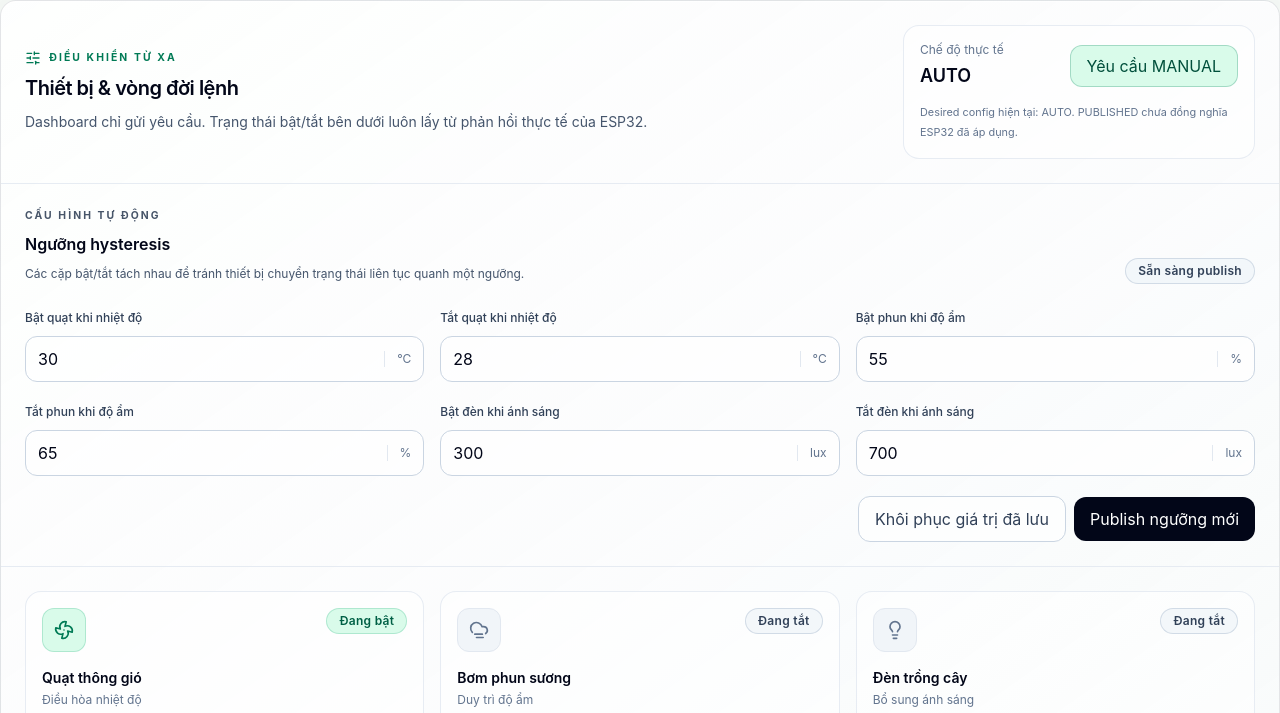
ControlPanel › validate và publish đầy đủ cấu hình ngưỡng
The image size is (1280, 713).
Step 1. Replace the text in the number field labelled "Bật quạt khi nhiệt độ" with "31" → (205,359), box [26, 337, 384, 381]
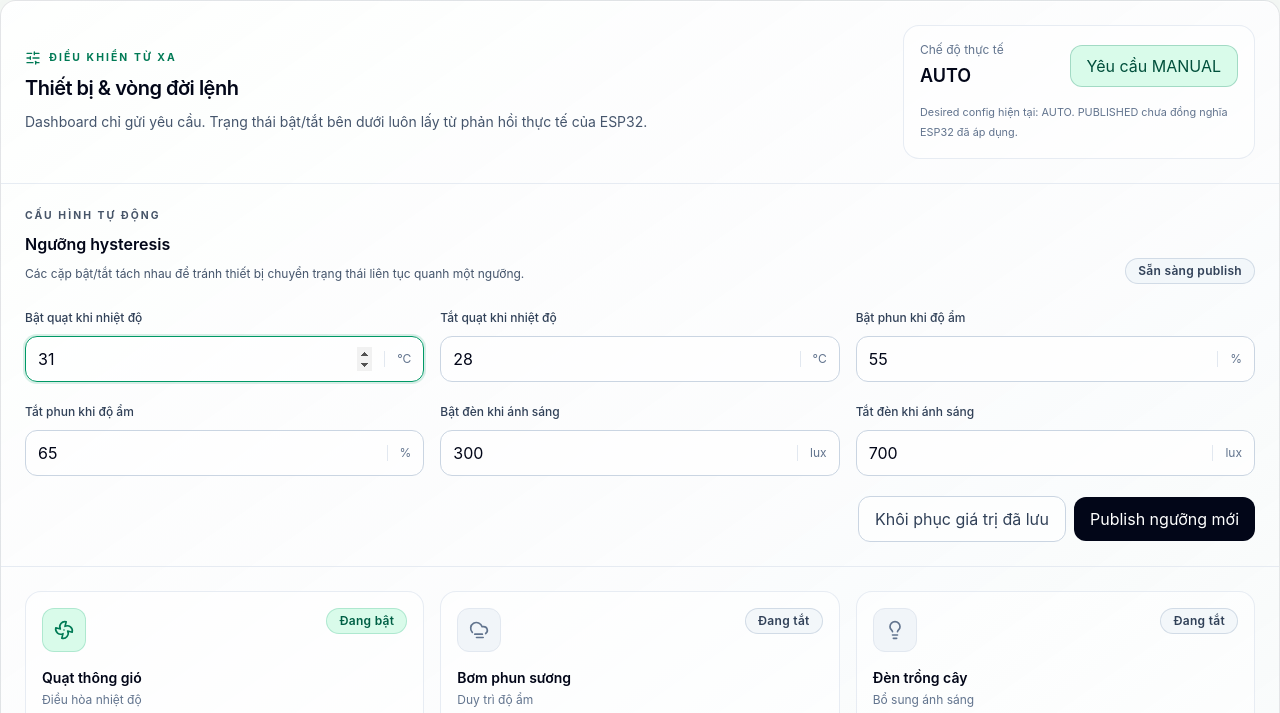
Step 2. Click the button "Publish ngưỡng mới" → (1164,519), box [1074, 497, 1255, 541]
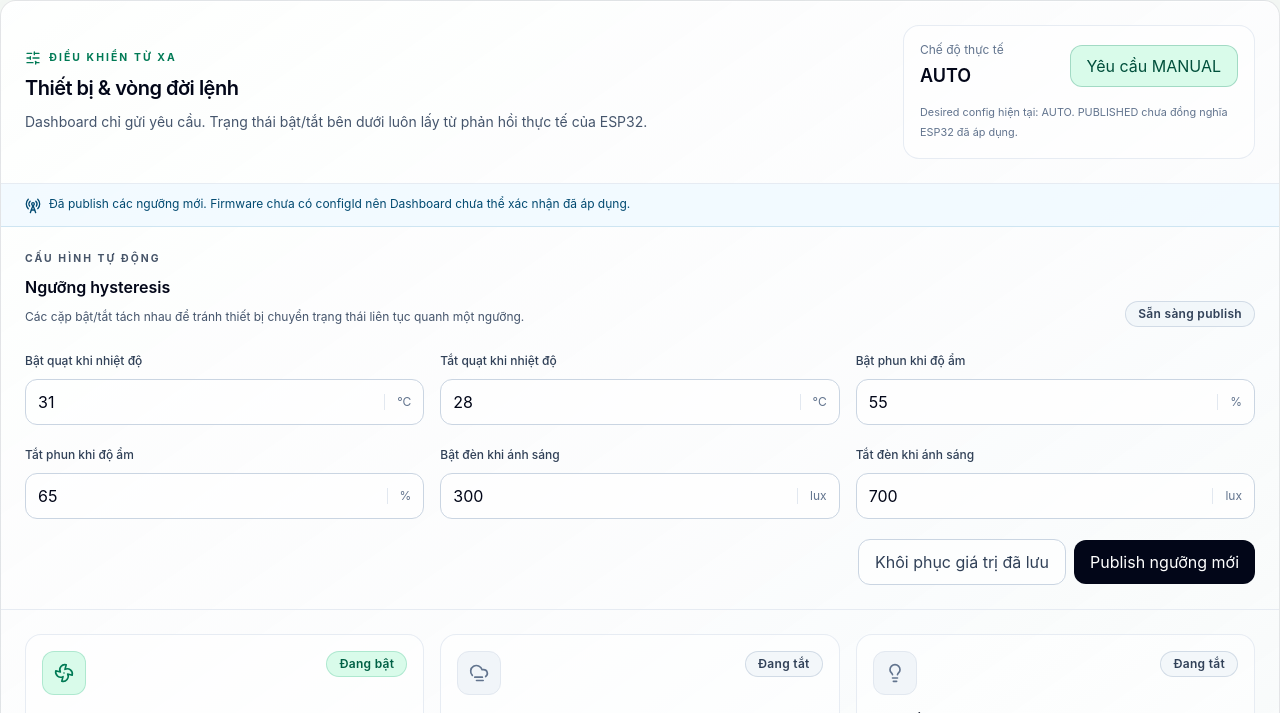
expect the text "Đã publish các ngưỡng mới" is shown: met, box [49, 196, 630, 211]
